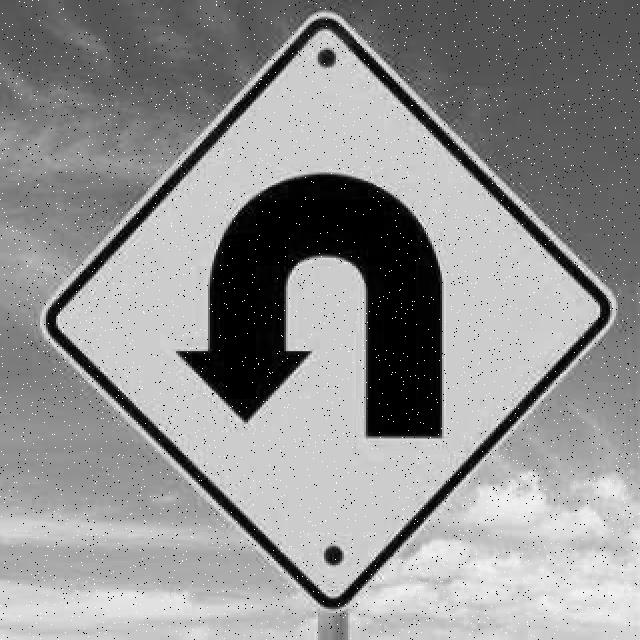Uturn: (39, 13, 612, 599)
